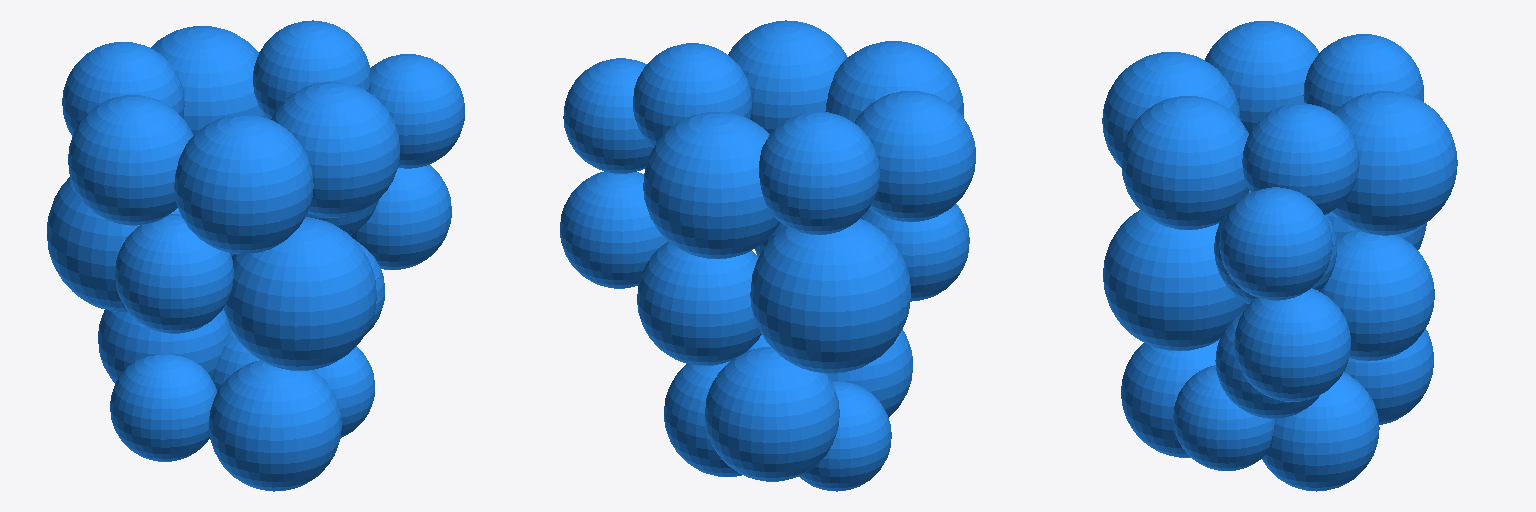
robot.urdf — mug:
<?xml version="1.0"?>
<robot name="mug">
  <!-- morphit:centroid -0.006521 0.000446 0.070191 -->
  <material name="default_color">
    <color rgba="0.200000 0.600000 1.000000 1.000000"/>
  </material>
  <link name="base">
    <inertial>
      <mass value="0.001000"/>
      <inertia ixx="0.000010" ixy="0.0" ixz="0.0" iyy="0.000010" iyz="0.0" izz="0.000010"/>
    </inertial>
  </link>
  <link name="sphere_0">
    <visual>
      <origin xyz="0 0 0" rpy="0 0 0"/>
      <geometry><sphere radius="0.027101"/></geometry>
      <material name="default_color"/>
    </visual>
    <collision>
      <origin xyz="0 0 0" rpy="0 0 0"/>
      <geometry><sphere radius="0.027101"/></geometry>
    </collision>
    <inertial>
      <mass value="0.096374"/>
      <inertia ixx="0.000028" ixy="0.0" ixz="0.0" iyy="0.000028" iyz="0.0" izz="0.000028"/>
    </inertial>
  </link>
  <joint name="sphere_0_fixed" type="fixed">
    <parent link="base"/>
    <child link="sphere_0"/>
    <origin xyz="-0.035957 0.023692 0.000847" rpy="0 0 0"/>
  </joint>
  <link name="sphere_1">
    <visual>
      <origin xyz="0 0 0" rpy="0 0 0"/>
      <geometry><sphere radius="0.026197"/></geometry>
      <material name="default_color"/>
    </visual>
    <collision>
      <origin xyz="0 0 0" rpy="0 0 0"/>
      <geometry><sphere radius="0.026197"/></geometry>
    </collision>
    <inertial>
      <mass value="0.087051"/>
      <inertia ixx="0.000024" ixy="0.0" ixz="0.0" iyy="0.000024" iyz="0.0" izz="0.000024"/>
    </inertial>
  </link>
  <joint name="sphere_1_fixed" type="fixed">
    <parent link="base"/>
    <child link="sphere_1"/>
    <origin xyz="-0.001774 -0.034551 -0.006399" rpy="0 0 0"/>
  </joint>
  <link name="sphere_2">
    <visual>
      <origin xyz="0 0 0" rpy="0 0 0"/>
      <geometry><sphere radius="0.021616"/></geometry>
      <material name="default_color"/>
    </visual>
    <collision>
      <origin xyz="0 0 0" rpy="0 0 0"/>
      <geometry><sphere radius="0.021616"/></geometry>
    </collision>
    <inertial>
      <mass value="0.048907"/>
      <inertia ixx="0.000009" ixy="0.0" ixz="0.0" iyy="0.000009" iyz="0.0" izz="0.000009"/>
    </inertial>
  </link>
  <joint name="sphere_2_fixed" type="fixed">
    <parent link="base"/>
    <child link="sphere_2"/>
    <origin xyz="0.010314 0.012640 -0.058865" rpy="0 0 0"/>
  </joint>
  <link name="sphere_3">
    <visual>
      <origin xyz="0 0 0" rpy="0 0 0"/>
      <geometry><sphere radius="0.024862"/></geometry>
      <material name="default_color"/>
    </visual>
    <collision>
      <origin xyz="0 0 0" rpy="0 0 0"/>
      <geometry><sphere radius="0.024862"/></geometry>
    </collision>
    <inertial>
      <mass value="0.074413"/>
      <inertia ixx="0.000018" ixy="0.0" ixz="0.0" iyy="0.000018" iyz="0.0" izz="0.000018"/>
    </inertial>
  </link>
  <joint name="sphere_3_fixed" type="fixed">
    <parent link="base"/>
    <child link="sphere_3"/>
    <origin xyz="0.000945 0.036217 0.037215" rpy="0 0 0"/>
  </joint>
  <link name="sphere_4">
    <visual>
      <origin xyz="0 0 0" rpy="0 0 0"/>
      <geometry><sphere radius="0.019971"/></geometry>
      <material name="default_color"/>
    </visual>
    <collision>
      <origin xyz="0 0 0" rpy="0 0 0"/>
      <geometry><sphere radius="0.019971"/></geometry>
    </collision>
    <inertial>
      <mass value="0.038567"/>
      <inertia ixx="0.000006" ixy="0.0" ixz="0.0" iyy="0.000006" iyz="0.0" izz="0.000006"/>
    </inertial>
  </link>
  <joint name="sphere_4_fixed" type="fixed">
    <parent link="base"/>
    <child link="sphere_4"/>
    <origin xyz="0.027389 -0.002130 -0.025222" rpy="0 0 0"/>
  </joint>
  <link name="sphere_5">
    <visual>
      <origin xyz="0 0 0" rpy="0 0 0"/>
      <geometry><sphere radius="0.022763"/></geometry>
      <material name="default_color"/>
    </visual>
    <collision>
      <origin xyz="0 0 0" rpy="0 0 0"/>
      <geometry><sphere radius="0.022763"/></geometry>
    </collision>
    <inertial>
      <mass value="0.057108"/>
      <inertia ixx="0.000012" ixy="0.0" ixz="0.0" iyy="0.000012" iyz="0.0" izz="0.000012"/>
    </inertial>
  </link>
  <joint name="sphere_5_fixed" type="fixed">
    <parent link="base"/>
    <child link="sphere_5"/>
    <origin xyz="-0.017091 0.030274 -0.045786" rpy="0 0 0"/>
  </joint>
  <link name="sphere_6">
    <visual>
      <origin xyz="0 0 0" rpy="0 0 0"/>
      <geometry><sphere radius="0.023128"/></geometry>
      <material name="default_color"/>
    </visual>
    <collision>
      <origin xyz="0 0 0" rpy="0 0 0"/>
      <geometry><sphere radius="0.023128"/></geometry>
    </collision>
    <inertial>
      <mass value="0.059901"/>
      <inertia ixx="0.000013" ixy="0.0" ixz="0.0" iyy="0.000013" iyz="0.0" izz="0.000013"/>
    </inertial>
  </link>
  <joint name="sphere_6_fixed" type="fixed">
    <parent link="base"/>
    <child link="sphere_6"/>
    <origin xyz="0.012771 -0.031385 0.042824" rpy="0 0 0"/>
  </joint>
  <link name="sphere_7">
    <visual>
      <origin xyz="0 0 0" rpy="0 0 0"/>
      <geometry><sphere radius="0.023759"/></geometry>
      <material name="default_color"/>
    </visual>
    <collision>
      <origin xyz="0 0 0" rpy="0 0 0"/>
      <geometry><sphere radius="0.023759"/></geometry>
    </collision>
    <inertial>
      <mass value="0.064941"/>
      <inertia ixx="0.000015" ixy="0.0" ixz="0.0" iyy="0.000015" iyz="0.0" izz="0.000015"/>
    </inertial>
  </link>
  <joint name="sphere_7_fixed" type="fixed">
    <parent link="base"/>
    <child link="sphere_7"/>
    <origin xyz="-0.025215 -0.037185 0.041077" rpy="0 0 0"/>
  </joint>
  <link name="sphere_8">
    <visual>
      <origin xyz="0 0 0" rpy="0 0 0"/>
      <geometry><sphere radius="0.022152"/></geometry>
      <material name="default_color"/>
    </visual>
    <collision>
      <origin xyz="0 0 0" rpy="0 0 0"/>
      <geometry><sphere radius="0.022152"/></geometry>
    </collision>
    <inertial>
      <mass value="0.052635"/>
      <inertia ixx="0.000010" ixy="0.0" ixz="0.0" iyy="0.000010" iyz="0.0" izz="0.000010"/>
    </inertial>
  </link>
  <joint name="sphere_8_fixed" type="fixed">
    <parent link="base"/>
    <child link="sphere_8"/>
    <origin xyz="-0.050098 -0.005424 0.043054" rpy="0 0 0"/>
  </joint>
  <link name="sphere_9">
    <visual>
      <origin xyz="0 0 0" rpy="0 0 0"/>
      <geometry><sphere radius="0.020123"/></geometry>
      <material name="default_color"/>
    </visual>
    <collision>
      <origin xyz="0 0 0" rpy="0 0 0"/>
      <geometry><sphere radius="0.020123"/></geometry>
    </collision>
    <inertial>
      <mass value="0.039454"/>
      <inertia ixx="0.000006" ixy="0.0" ixz="0.0" iyy="0.000006" iyz="0.0" izz="0.000006"/>
    </inertial>
  </link>
  <joint name="sphere_9_fixed" type="fixed">
    <parent link="base"/>
    <child link="sphere_9"/>
    <origin xyz="0.057114 0.004445 -0.004847" rpy="0 0 0"/>
  </joint>
  <link name="sphere_10">
    <visual>
      <origin xyz="0 0 0" rpy="0 0 0"/>
      <geometry><sphere radius="0.022799"/></geometry>
      <material name="default_color"/>
    </visual>
    <collision>
      <origin xyz="0 0 0" rpy="0 0 0"/>
      <geometry><sphere radius="0.022799"/></geometry>
    </collision>
    <inertial>
      <mass value="0.057380"/>
      <inertia ixx="0.000012" ixy="0.0" ixz="0.0" iyy="0.000012" iyz="0.0" izz="0.000012"/>
    </inertial>
  </link>
  <joint name="sphere_10_fixed" type="fixed">
    <parent link="base"/>
    <child link="sphere_10"/>
    <origin xyz="0.009009 0.030486 -0.008854" rpy="0 0 0"/>
  </joint>
  <link name="sphere_11">
    <visual>
      <origin xyz="0 0 0" rpy="0 0 0"/>
      <geometry><sphere radius="0.020270"/></geometry>
      <material name="default_color"/>
    </visual>
    <collision>
      <origin xyz="0 0 0" rpy="0 0 0"/>
      <geometry><sphere radius="0.020270"/></geometry>
    </collision>
    <inertial>
      <mass value="0.040325"/>
      <inertia ixx="0.000007" ixy="0.0" ixz="0.0" iyy="0.000007" iyz="0.0" izz="0.000007"/>
    </inertial>
  </link>
  <joint name="sphere_11_fixed" type="fixed">
    <parent link="base"/>
    <child link="sphere_11"/>
    <origin xyz="-0.041857 -0.019103 0.004155" rpy="0 0 0"/>
  </joint>
  <link name="sphere_12">
    <visual>
      <origin xyz="0 0 0" rpy="0 0 0"/>
      <geometry><sphere radius="0.020810"/></geometry>
      <material name="default_color"/>
    </visual>
    <collision>
      <origin xyz="0 0 0" rpy="0 0 0"/>
      <geometry><sphere radius="0.020810"/></geometry>
    </collision>
    <inertial>
      <mass value="0.043636"/>
      <inertia ixx="0.000008" ixy="0.0" ixz="0.0" iyy="0.000008" iyz="0.0" izz="0.000008"/>
    </inertial>
  </link>
  <joint name="sphere_12_fixed" type="fixed">
    <parent link="base"/>
    <child link="sphere_12"/>
    <origin xyz="-0.034147 0.028833 0.046900" rpy="0 0 0"/>
  </joint>
  <link name="sphere_13">
    <visual>
      <origin xyz="0 0 0" rpy="0 0 0"/>
      <geometry><sphere radius="0.020150"/></geometry>
      <material name="default_color"/>
    </visual>
    <collision>
      <origin xyz="0 0 0" rpy="0 0 0"/>
      <geometry><sphere radius="0.020150"/></geometry>
    </collision>
    <inertial>
      <mass value="0.039616"/>
      <inertia ixx="0.000006" ixy="0.0" ixz="0.0" iyy="0.000006" iyz="0.0" izz="0.000006"/>
    </inertial>
  </link>
  <joint name="sphere_13_fixed" type="fixed">
    <parent link="base"/>
    <child link="sphere_13"/>
    <origin xyz="0.027160 0.007242 0.049967" rpy="0 0 0"/>
  </joint>
  <link name="sphere_14">
    <visual>
      <origin xyz="0 0 0" rpy="0 0 0"/>
      <geometry><sphere radius="0.018630"/></geometry>
      <material name="default_color"/>
    </visual>
    <collision>
      <origin xyz="0 0 0" rpy="0 0 0"/>
      <geometry><sphere radius="0.018630"/></geometry>
    </collision>
    <inertial>
      <mass value="0.031309"/>
      <inertia ixx="0.000004" ixy="0.0" ixz="0.0" iyy="0.000004" iyz="0.0" izz="0.000004"/>
    </inertial>
  </link>
  <joint name="sphere_14_fixed" type="fixed">
    <parent link="base"/>
    <child link="sphere_14"/>
    <origin xyz="-0.029556 0.008735 -0.059701" rpy="0 0 0"/>
  </joint>
  <link name="sphere_15">
    <visual>
      <origin xyz="0 0 0" rpy="0 0 0"/>
      <geometry><sphere radius="0.021189"/></geometry>
      <material name="default_color"/>
    </visual>
    <collision>
      <origin xyz="0 0 0" rpy="0 0 0"/>
      <geometry><sphere radius="0.021189"/></geometry>
    </collision>
    <inertial>
      <mass value="0.046064"/>
      <inertia ixx="0.000008" ixy="0.0" ixz="0.0" iyy="0.000008" iyz="0.0" izz="0.000008"/>
    </inertial>
  </link>
  <joint name="sphere_15_fixed" type="fixed">
    <parent link="base"/>
    <child link="sphere_15"/>
    <origin xyz="0.025112 -0.001423 0.016127" rpy="0 0 0"/>
  </joint>
  <link name="sphere_16">
    <visual>
      <origin xyz="0 0 0" rpy="0 0 0"/>
      <geometry><sphere radius="0.022608"/></geometry>
      <material name="default_color"/>
    </visual>
    <collision>
      <origin xyz="0 0 0" rpy="0 0 0"/>
      <geometry><sphere radius="0.022608"/></geometry>
    </collision>
    <inertial>
      <mass value="0.055949"/>
      <inertia ixx="0.000011" ixy="0.0" ixz="0.0" iyy="0.000011" iyz="0.0" izz="0.000011"/>
    </inertial>
  </link>
  <joint name="sphere_16_fixed" type="fixed">
    <parent link="base"/>
    <child link="sphere_16"/>
    <origin xyz="-0.009820 -0.031943 -0.054510" rpy="0 0 0"/>
  </joint>
  <link name="sphere_17">
    <visual>
      <origin xyz="0 0 0" rpy="0 0 0"/>
      <geometry><sphere radius="0.018498"/></geometry>
      <material name="default_color"/>
    </visual>
    <collision>
      <origin xyz="0 0 0" rpy="0 0 0"/>
      <geometry><sphere radius="0.018498"/></geometry>
    </collision>
    <inertial>
      <mass value="0.030649"/>
      <inertia ixx="0.000004" ixy="0.0" ixz="0.0" iyy="0.000004" iyz="0.0" izz="0.000004"/>
    </inertial>
  </link>
  <joint name="sphere_17_fixed" type="fixed">
    <parent link="base"/>
    <child link="sphere_17"/>
    <origin xyz="0.015936 -0.018129 -0.052051" rpy="0 0 0"/>
  </joint>
  <link name="sphere_18">
    <visual>
      <origin xyz="0 0 0" rpy="0 0 0"/>
      <geometry><sphere radius="0.019467"/></geometry>
      <material name="default_color"/>
    </visual>
    <collision>
      <origin xyz="0 0 0" rpy="0 0 0"/>
      <geometry><sphere radius="0.019467"/></geometry>
    </collision>
    <inertial>
      <mass value="0.035720"/>
      <inertia ixx="0.000005" ixy="0.0" ixz="0.0" iyy="0.000005" iyz="0.0" izz="0.000005"/>
    </inertial>
  </link>
  <joint name="sphere_18_fixed" type="fixed">
    <parent link="base"/>
    <child link="sphere_18"/>
    <origin xyz="0.059764 -0.001290 0.034070" rpy="0 0 0"/>
  </joint>
</robot>

--- What the picture shows (computed from the rendered views, not written in the file) ---
3 views of the same robot in one strip: view 1: azimuth 30°, elevation 25°; view 2: azimuth 150°, elevation 25°; view 3: azimuth 270°, elevation 25° (orthographic).
Robot: mug — 20 links, 19 joints (19 fixed); root link base; default pose: all joints at 0.
Visible links, largest first — view 1: sphere_1, sphere_7, sphere_16, sphere_8, sphere_6, sphere_11, sphere_14, sphere_18, sphere_3, sphere_13, sphere_9, sphere_0 (+6 smaller); view 2: sphere_0, sphere_3, sphere_5, sphere_12, sphere_10, sphere_8, sphere_9, sphere_6, sphere_13, sphere_18, sphere_7, sphere_14 (+3 smaller); view 3: sphere_1, sphere_6, sphere_3, sphere_10, sphere_9, sphere_18, sphere_13, sphere_2, sphere_8, sphere_17, sphere_7, sphere_12 (+5 smaller).
Link boxes in pixels (box(x1,y1,x2,y2)): sphere_1: box(224, 217, 376, 370); sphere_7: box(174, 114, 313, 253); sphere_16: box(209, 360, 341, 491); sphere_8: box(68, 95, 193, 225); sphere_6: box(271, 82, 399, 217); sphere_11: box(115, 214, 233, 333); sphere_14: box(110, 355, 216, 461); sphere_18: box(370, 54, 464, 168); sphere_3: box(151, 26, 265, 134); sphere_13: box(253, 20, 370, 119); sphere_9: box(350, 165, 451, 269); sphere_0: box(47, 177, 180, 312); sphere_0: box(750, 218, 910, 373); sphere_3: box(643, 112, 779, 258); sphere_5: box(705, 347, 839, 481); sphere_12: box(759, 111, 879, 234); sphere_10: box(637, 241, 761, 365); sphere_8: box(855, 91, 975, 221); sphere_9: box(560, 171, 667, 288); sphere_6: box(728, 20, 847, 133); sphere_13: box(633, 43, 751, 147); sphere_18: box(563, 58, 652, 173); sphere_7: box(825, 41, 963, 122); sphere_14: box(799, 381, 891, 491); sphere_1: box(1103, 210, 1248, 350); sphere_6: box(1121, 96, 1249, 229); sphere_3: box(1332, 91, 1457, 235); sphere_10: box(1320, 230, 1434, 360); sphere_9: box(1234, 288, 1350, 401); sphere_18: box(1219, 187, 1332, 300); sphere_13: box(1242, 103, 1359, 214); sphere_2: box(1262, 372, 1379, 491); sphere_8: box(1205, 21, 1318, 133); sphere_17: box(1173, 365, 1274, 470); sphere_7: box(1102, 52, 1240, 166); sphere_12: box(1303, 34, 1423, 112).
Size in the robot's own frame: 0.1515 by 0.122 by 0.1506 metres.
Geometry: primitives only (box / cylinder / sphere), no mesh files.
